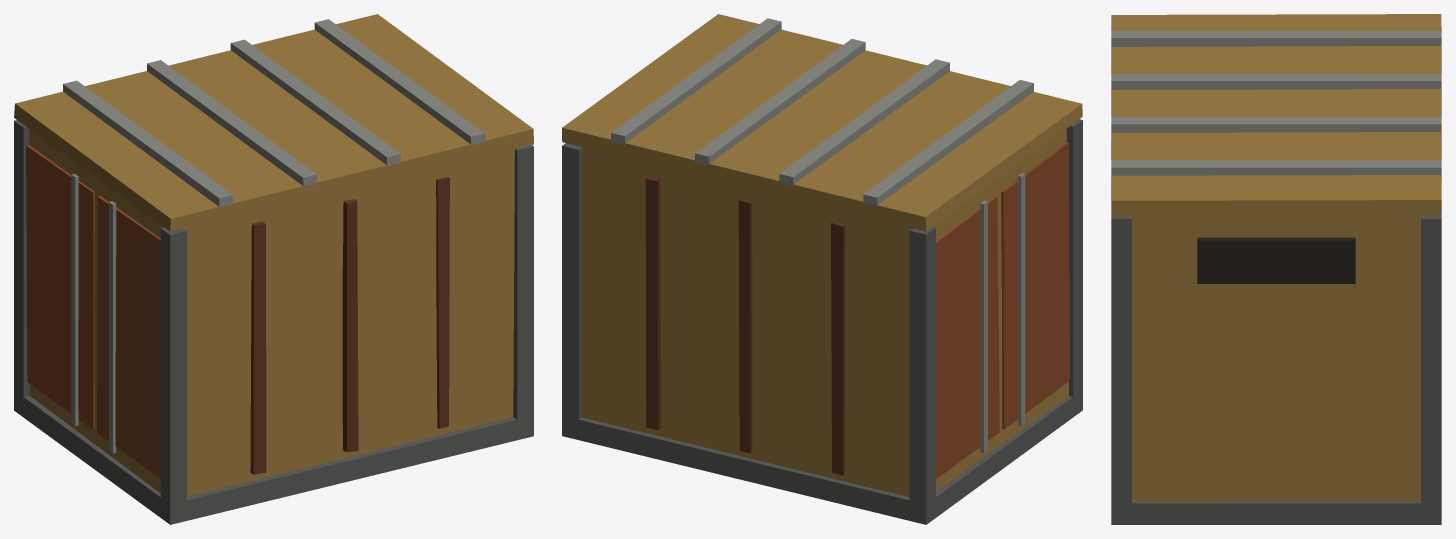
The model's file is cargo_trailer_box.glb.
3 renders of one model, left to right at view 1: azimuth 30°, elevation 25°; view 2: azimuth 150°, elevation 25°; view 3: azimuth 270°, elevation 25°, orthographic. The views are drawn at different scales.
Parts seen in each view (by area): view 1: cargo_trailer_box; view 2: cargo_trailer_box; view 3: cargo_trailer_box.
Part boxes in pixels (x1,y1,x2,y2): cargo_trailer_box: (14, 14, 533, 524); cargo_trailer_box: (562, 14, 1082, 524); cargo_trailer_box: (1111, 14, 1441, 524).
Size of the model in its own units: 1.3 by 1.07 by 0.968.
